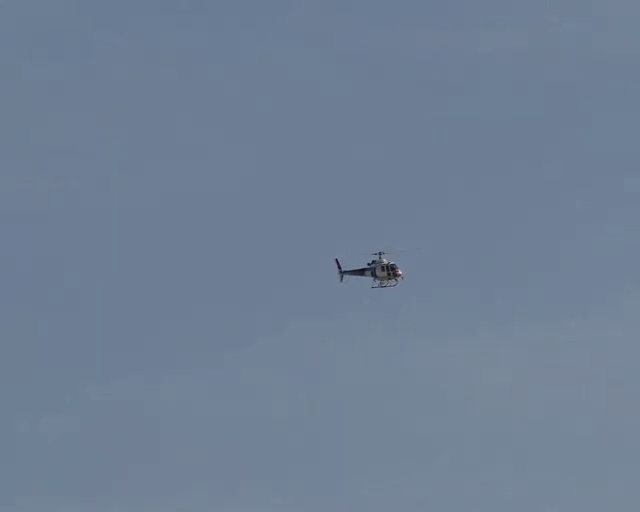HELICOPTER: (333, 248, 404, 289)
